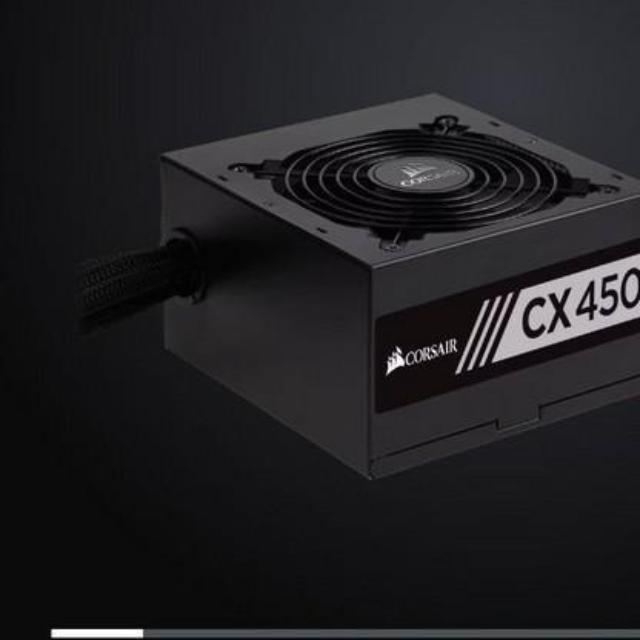PSU: (146, 78, 640, 492)
